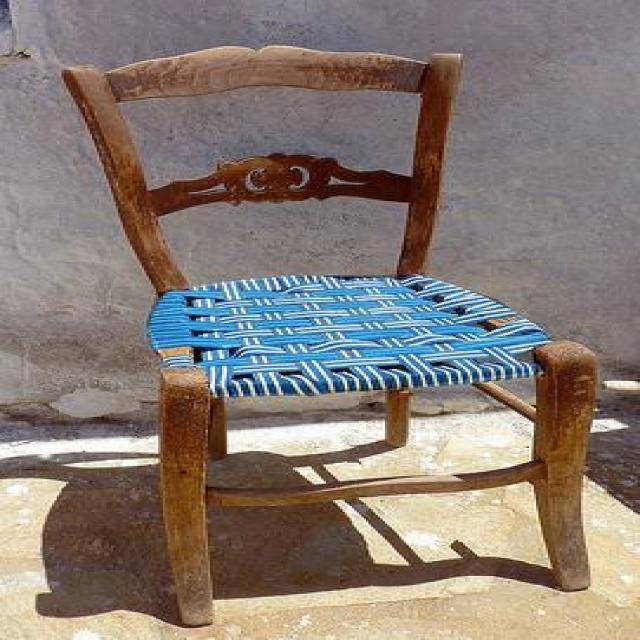chair: (61, 42, 601, 630)
